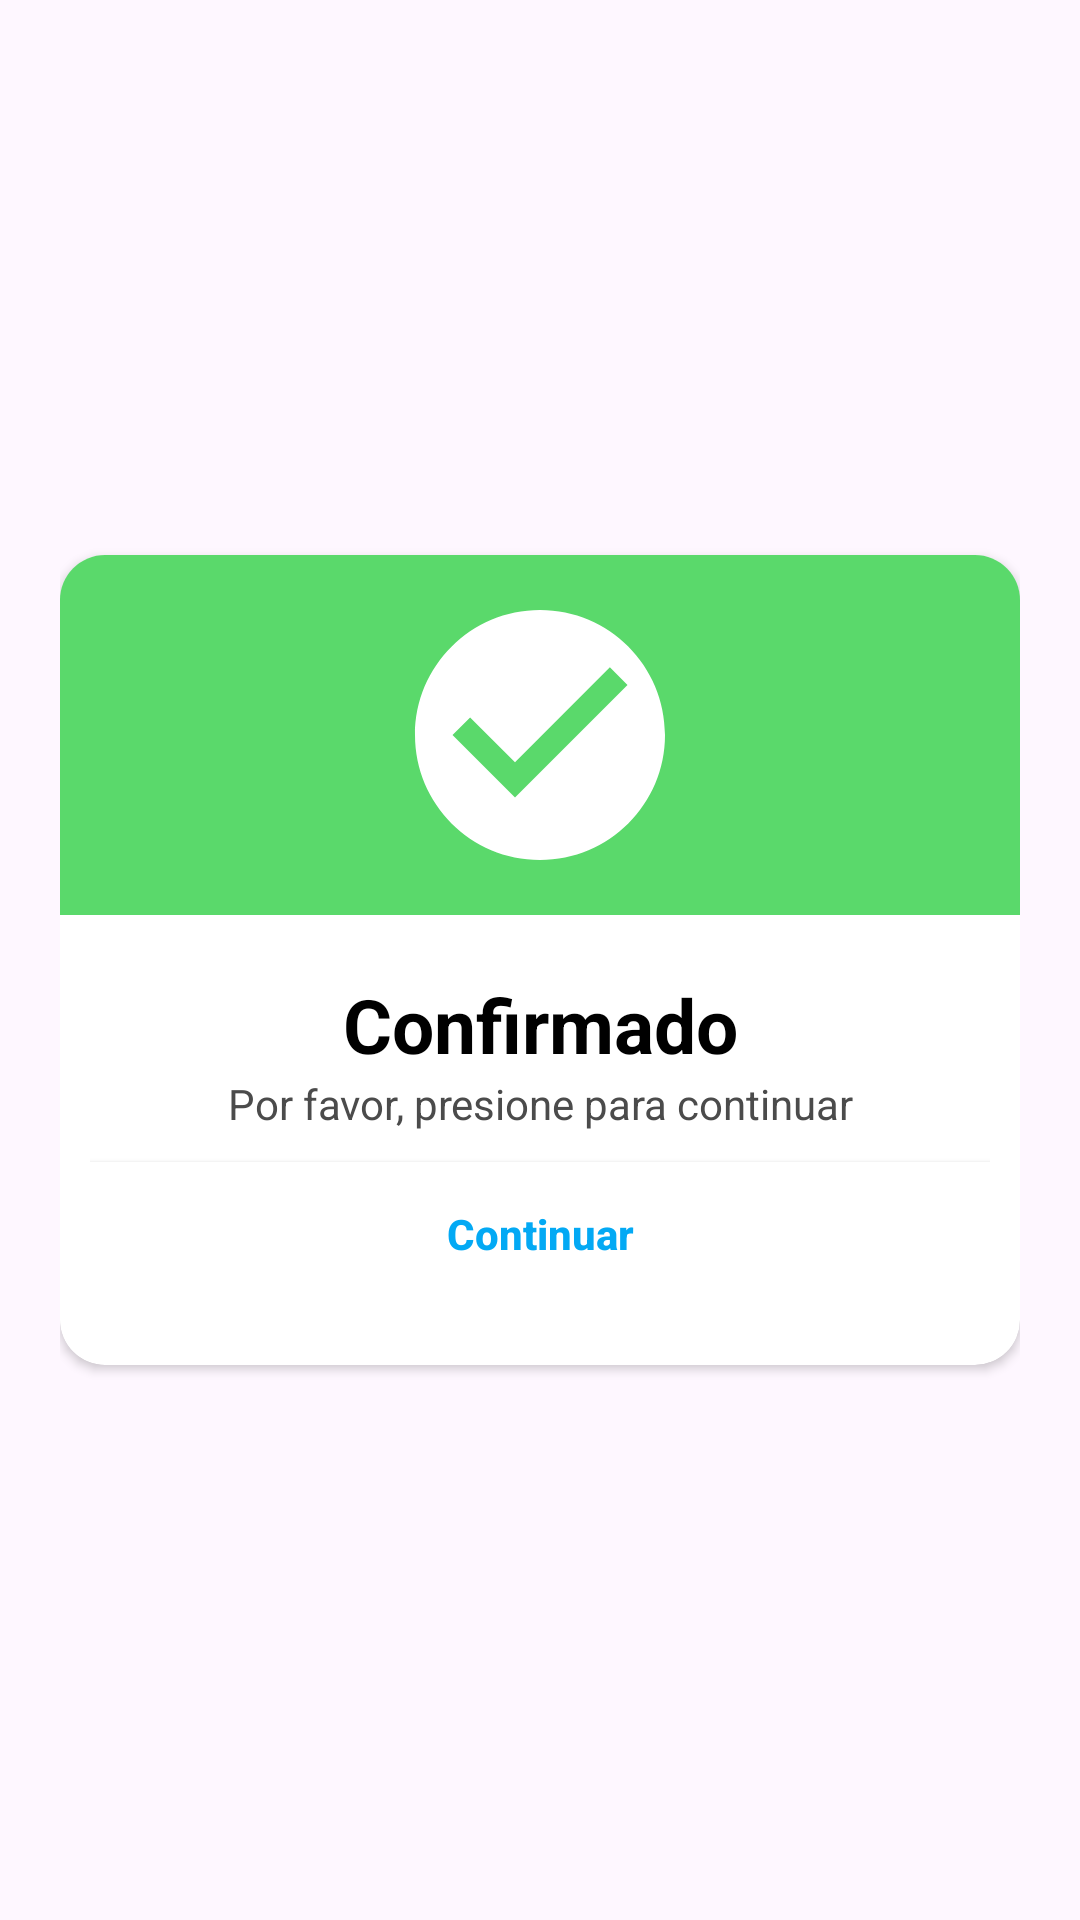

Where icons sit on this 1080px×1920px app screen, as detection(x1, y1, x2, y2):
success: detection(415, 610, 665, 860)
